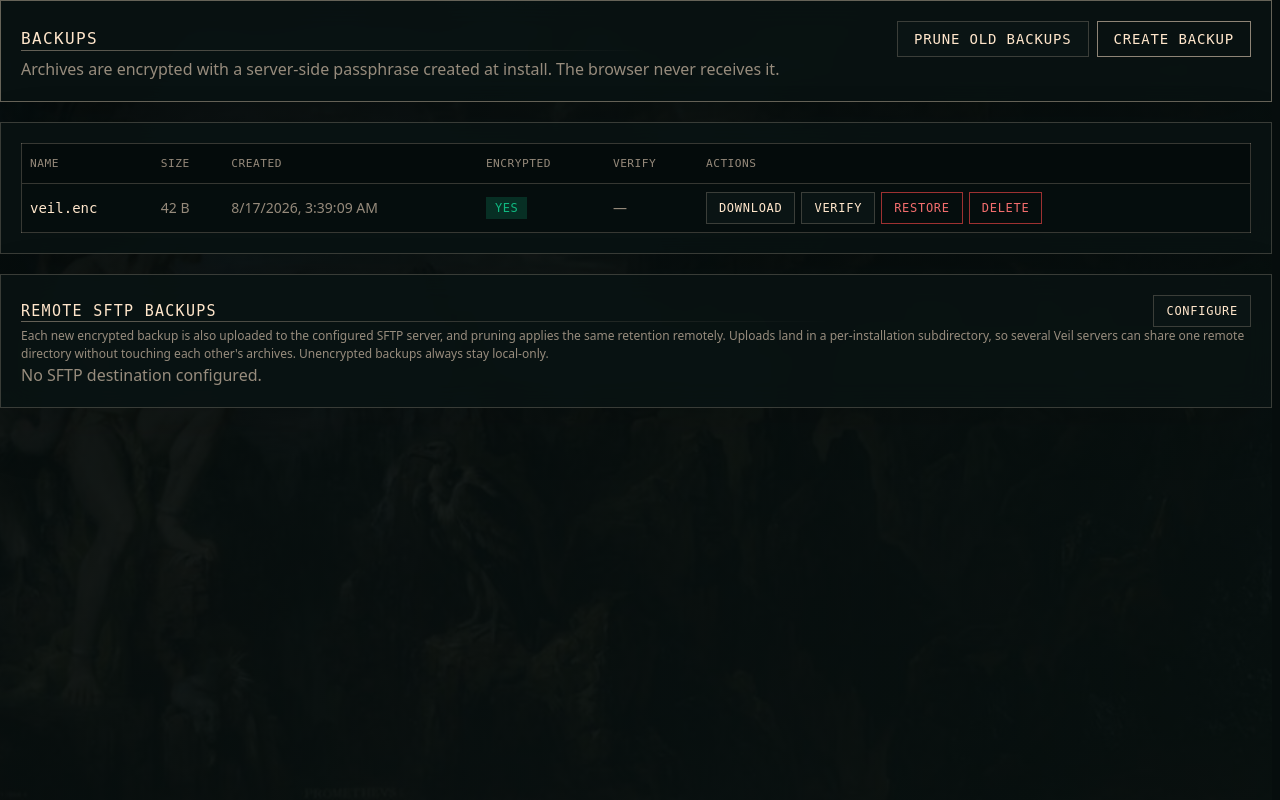
Scenario: BackupsPage › rejects a cross-origin redirected download instead of saving it
This screenshot has width=1280, height=800.
Click the button "Download" at x=751, y=208, box [706,192,796,224]
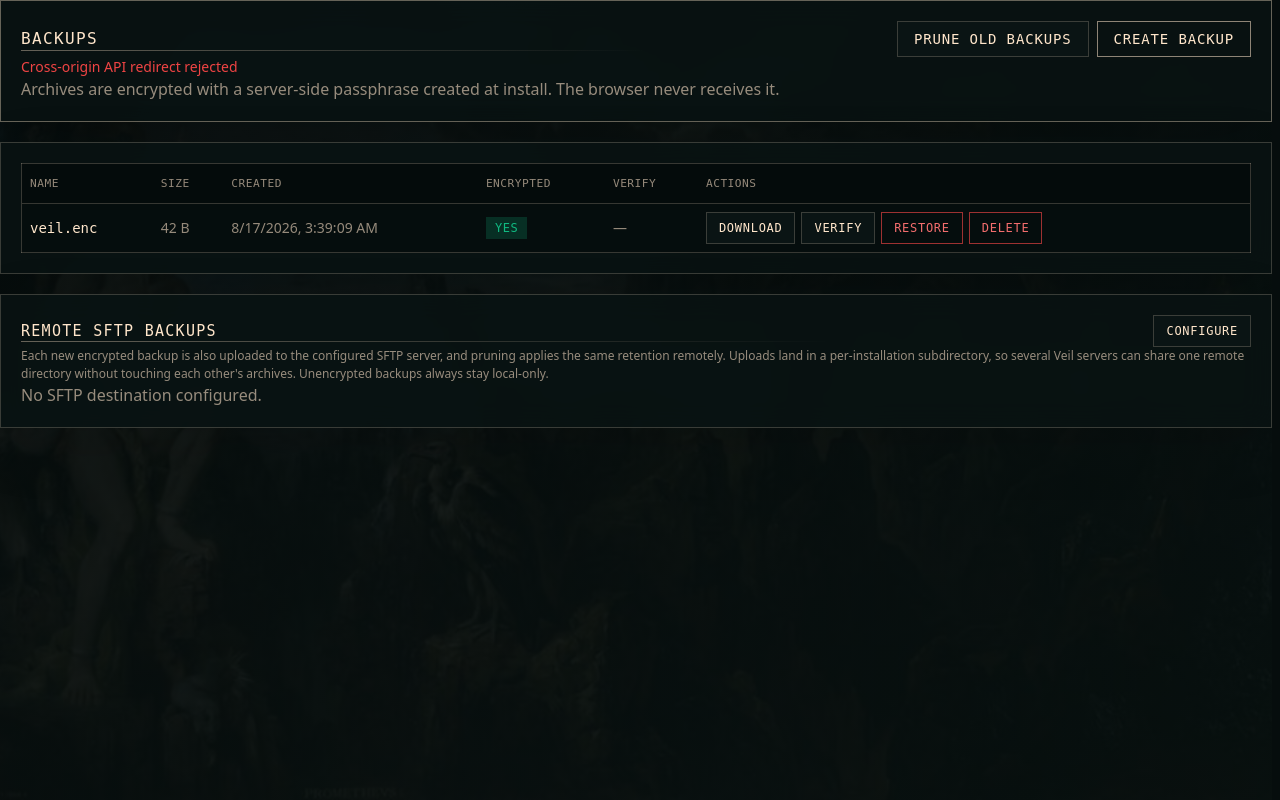
Result: the text "Cross-origin API redirect rejected" is shown at [21,57,238,76]
